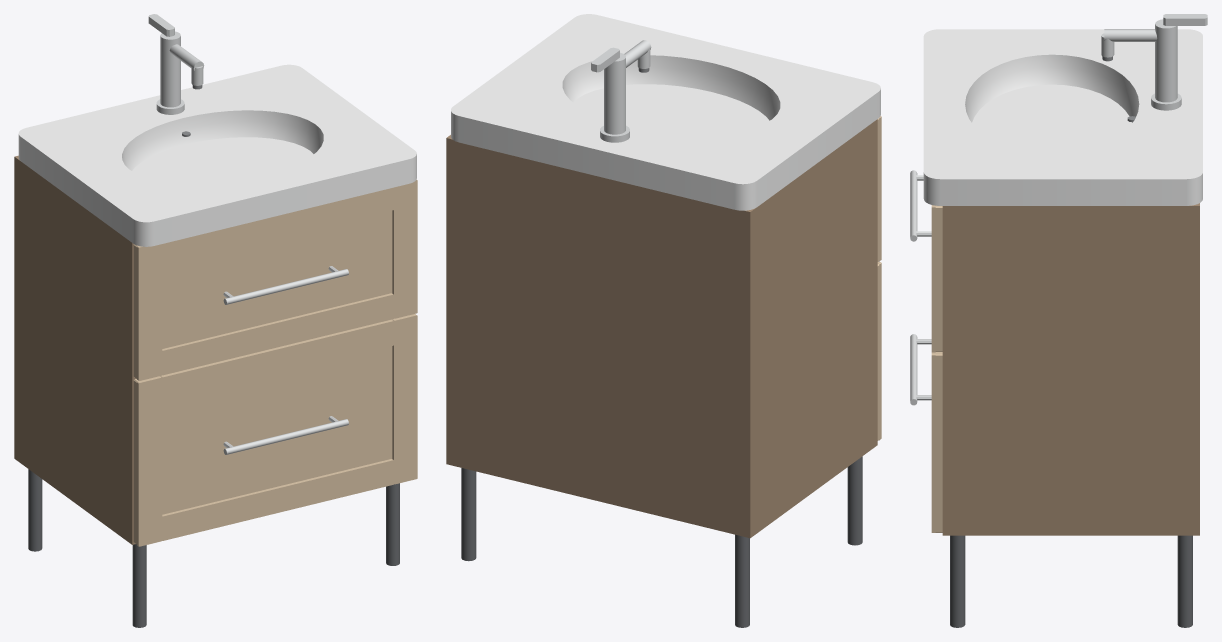
3 views of the same model, side by side, from view 1: azimuth 30°, elevation 25°; view 2: azimuth 150°, elevation 25°; view 3: azimuth 270°, elevation 25° (orthographic). The views are drawn at different scales.
Parts seen in each view (by area): view 1: Lavabo Rộng tủ=600; Sâu tủ=460; view 2: Lavabo Rộng tủ=600; Sâu tủ=460; view 3: Lavabo Rộng tủ=600; Sâu tủ=460.
Boxes of the visible parts, x1,y1,x2,y2 form: Lavabo Rộng tủ=600; Sâu tủ=460: (14,14,417,627); Lavabo Rộng tủ=600; Sâu tủ=460: (446,14,881,627); Lavabo Rộng tủ=600; Sâu tủ=460: (910,14,1207,627).
Bounding box in the file's own units: 0.6 × 1.01 × 0.503.
